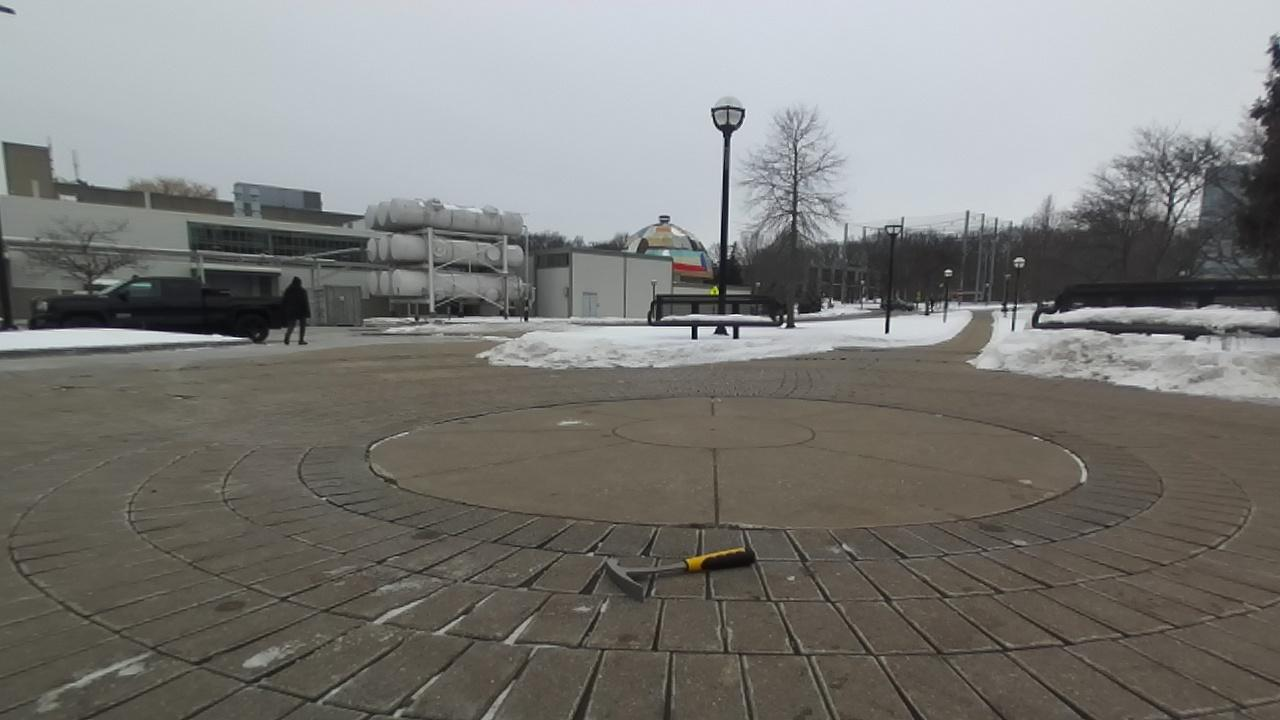pick: (606, 547, 755, 600)
